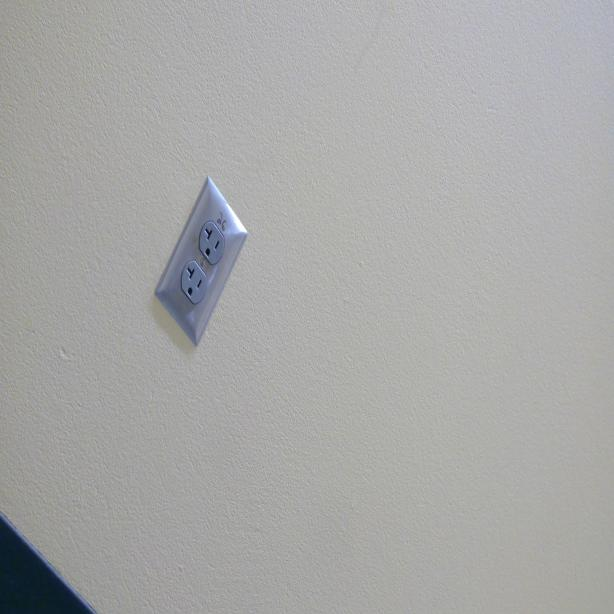typeb: (198, 222, 225, 262), (182, 264, 208, 300)
